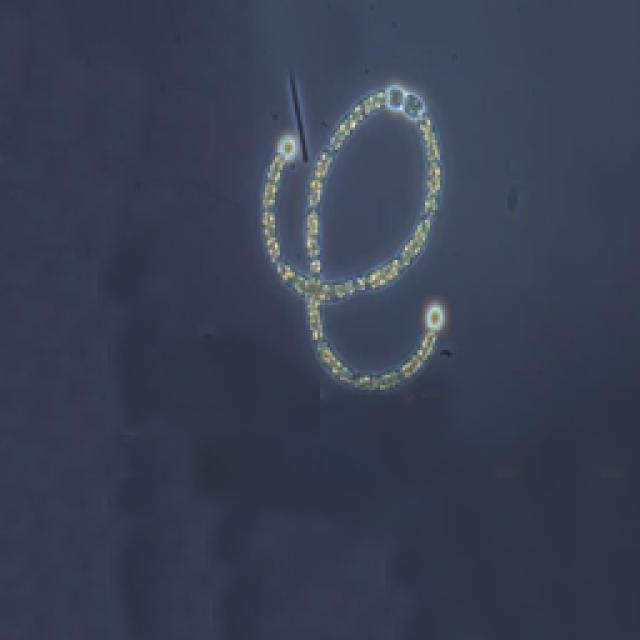Anabaena: (256, 78, 455, 408)
